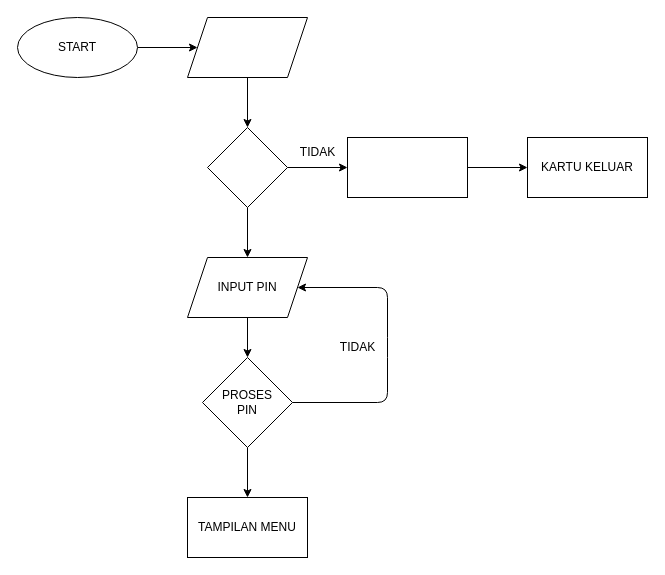
This 665x575 diagram has some shape labels left out. The shapes that lost their labels are listed below. From the top down, each one's box as (x1, y1, x2, y2) in pixels, then its label:
(186, 16, 308, 78): MASUKAN KARTU
(206, 126, 288, 208): READ CARD
(346, 136, 468, 198): INFORMASI KARTU
